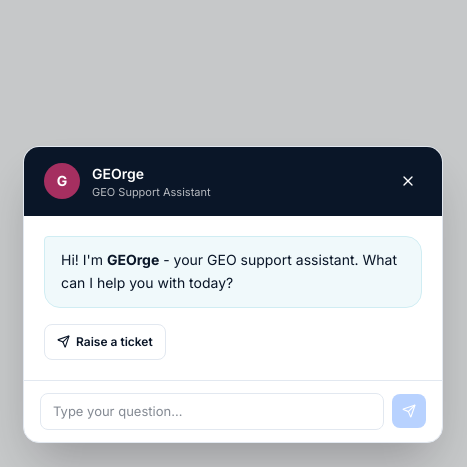
it: keeps FAQs and guides together as labelled choices
Type "measurement" into the field with placeholder "Type your question…". click: (212, 411)
box: [40,392,384,430]
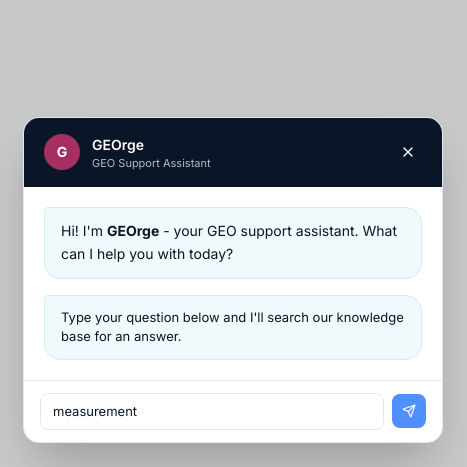
Press Enter in the field with placeholder "Type your question…", box [40,392,384,430]
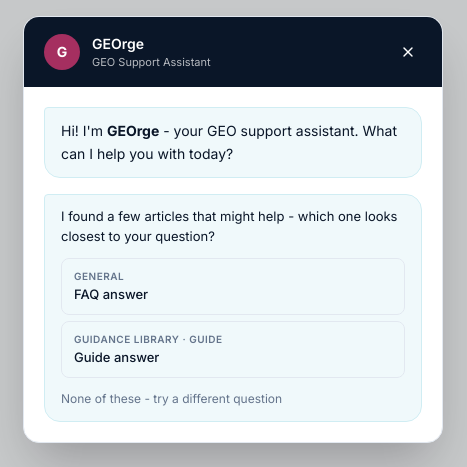
Click the button "General FAQ answer". click: (99, 276)
box: [61,258,405,315]
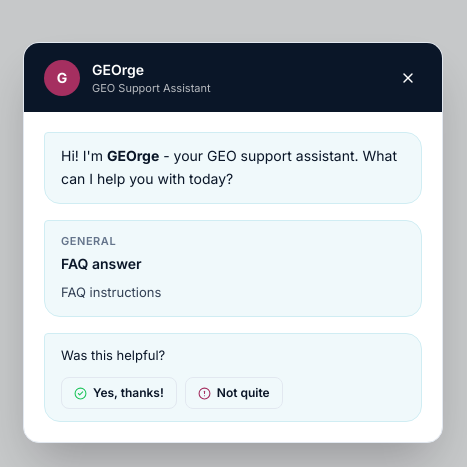
Expected: the text "FAQ instructions" is shown, [61,284,161,300]
